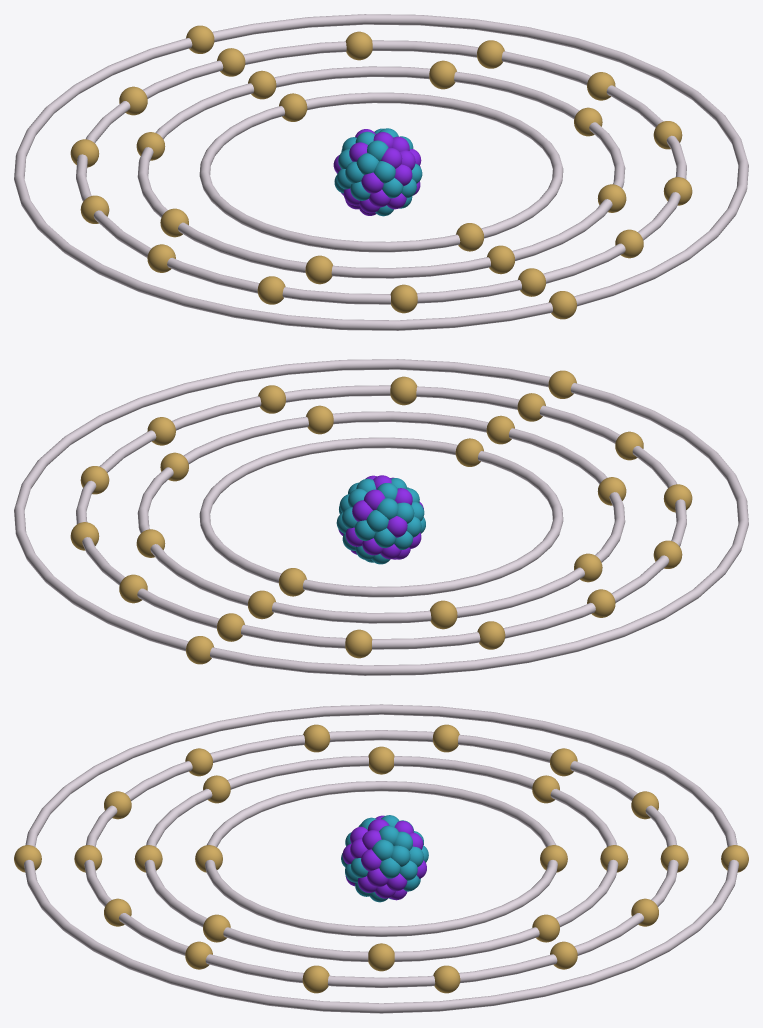
The model's file is ferro.glb.
The picture shows the model from 3 angles, top to bottom: view 1: azimuth 30°, elevation 25°; view 2: azimuth 150°, elevation 25°; view 3: azimuth 270°, elevation 25°; orthographic projection. The views are drawn at different scales.
Visible parts, largest first — view 1: Orbita_4, Orbita_3, Orbita_2, Orbita_1, Nucleo_Completo, Eletron_C3_7, Eletron_C3_14, Eletron_C2_8, Eletron_C2_4, Eletron_C3_13, Eletron_C3_6, Eletron_C2_1 (+19 smaller); view 2: Orbita_4, Orbita_3, Orbita_2, Orbita_1, Nucleo_Completo, Eletron_C3_2, Eletron_C3_9, Eletron_C2_6, Eletron_C2_2, Eletron_C3_10, Eletron_C3_3, Eletron_C2_5 (+19 smaller); view 3: Orbita_4, Orbita_3, Orbita_2, Orbita_1, Nucleo_Completo, Eletron_C2_3, Eletron_C2_7, Eletron_C3_4, Eletron_C3_5, Eletron_C3_11, Eletron_C3_12, Eletron_C2_2 (+19 smaller).
Boxes of the visible parts, x1,y1,x2,y2 form: Orbita_4: (14, 14, 748, 330); Orbita_3: (76, 40, 686, 304); Orbita_2: (137, 66, 625, 278); Orbita_1: (199, 92, 563, 252); Nucleo_Completo: (333, 128, 422, 216); Eletron_C3_7: (345, 31, 372, 60); Eletron_C3_14: (390, 284, 417, 313); Eletron_C2_8: (305, 255, 332, 284); Eletron_C2_4: (429, 60, 456, 89); Eletron_C3_13: (257, 276, 285, 304); Eletron_C3_6: (477, 40, 504, 68); Eletron_C2_1: (487, 245, 514, 274); Orbita_4: (14, 359, 748, 675); Orbita_3: (76, 385, 686, 649); Orbita_2: (137, 411, 625, 623); Orbita_1: (199, 437, 563, 597); Nucleo_Completo: (336, 475, 425, 564); Eletron_C3_2: (390, 376, 417, 405); Eletron_C3_9: (345, 629, 372, 658); Eletron_C2_6: (430, 600, 457, 629); Eletron_C2_2: (306, 405, 333, 434); Eletron_C3_10: (477, 621, 505, 649); Eletron_C3_3: (258, 385, 285, 413); Eletron_C2_5: (248, 590, 275, 619); Orbita_4: (24, 704, 738, 1013); Orbita_3: (84, 730, 678, 987); Orbita_2: (144, 756, 618, 961); Orbita_1: (205, 781, 557, 936); Nucleo_Completo: (341, 815, 428, 902); Eletron_C2_3: (368, 943, 394, 971); Eletron_C2_7: (368, 746, 394, 774); Eletron_C3_4: (302, 965, 329, 993); Eletron_C3_5: (433, 965, 460, 993); Eletron_C3_11: (432, 724, 459, 752); Eletron_C3_12: (303, 724, 330, 752); Eletron_C2_2: (203, 914, 230, 942).
Size of the model in its own units: 4.16 by 0.5052 by 4.26.
